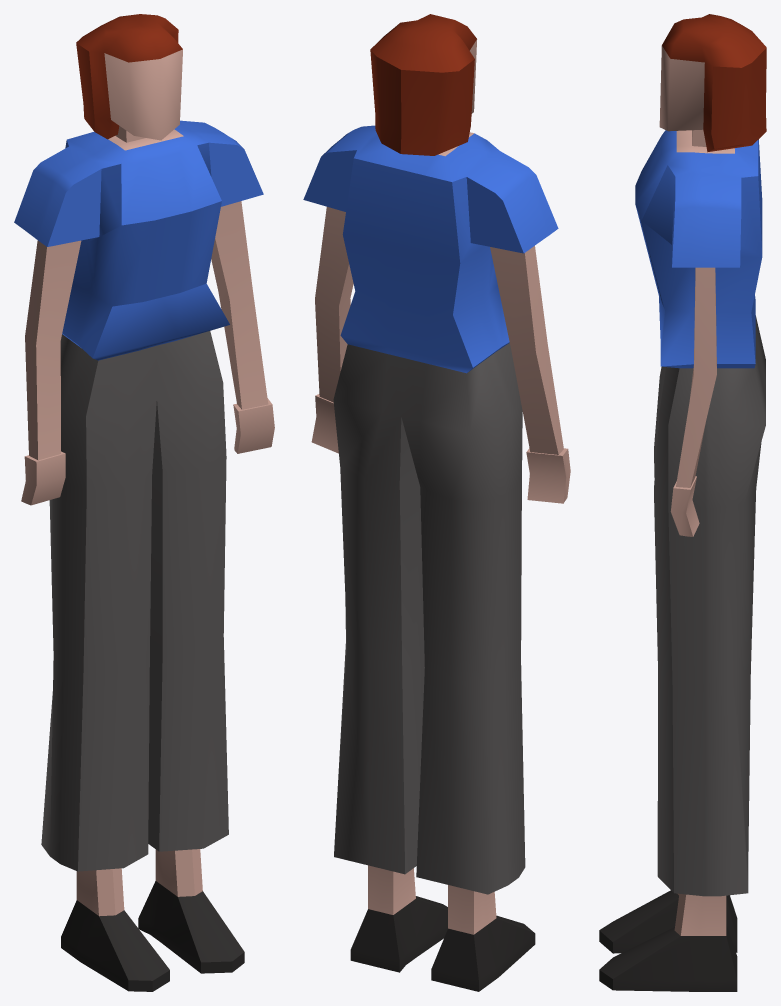
Rendered from PedestrianFemale_M_v1_Carrie.FBX.
3 renders of one model, left to right at view 1: azimuth 30°, elevation 25°; view 2: azimuth 150°, elevation 25°; view 3: azimuth 270°, elevation 25°, orthographic. The views are drawn at different scales.
Visible parts, largest first — view 1: P_F; view 2: P_F; view 3: P_F.
Part boxes in pixels (<box>): P_F: <box>14,14,274,991</box>; P_F: <box>303,14,570,991</box>; P_F: <box>599,14,766,991</box>.
Bounding box in the file's own units: 115 × 408 × 66.23.
